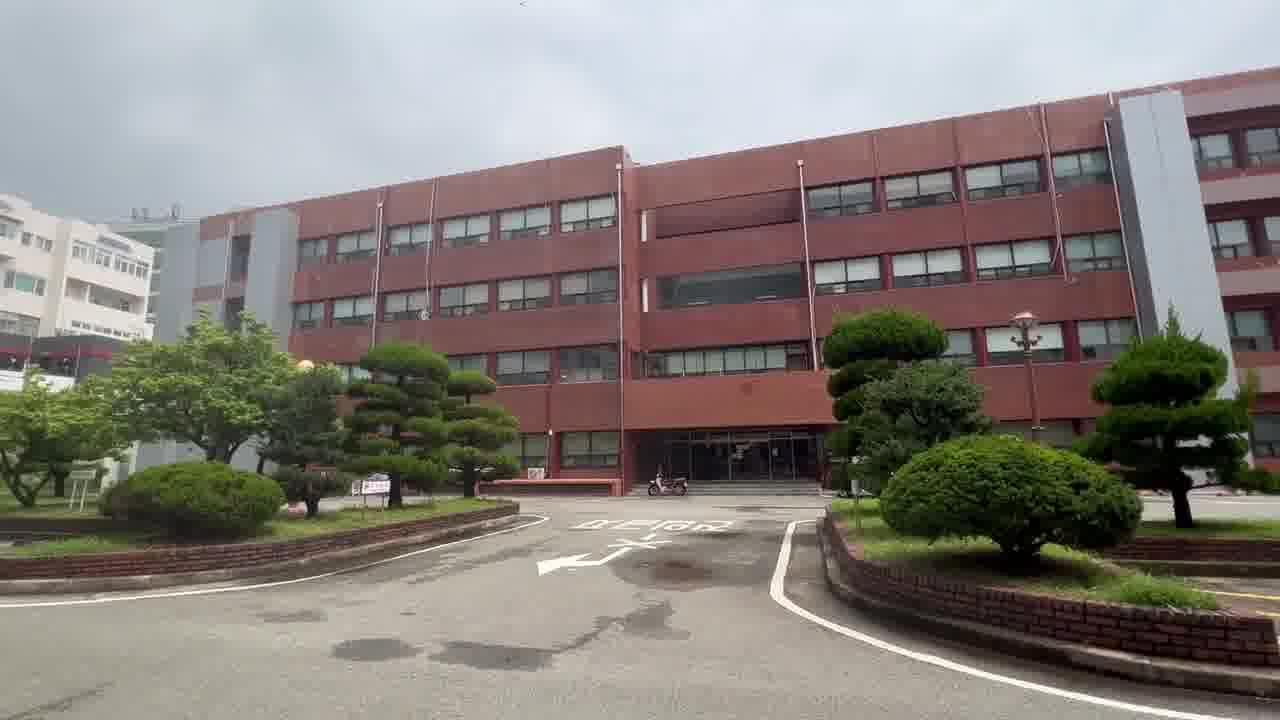building: (206, 107, 1280, 311)
